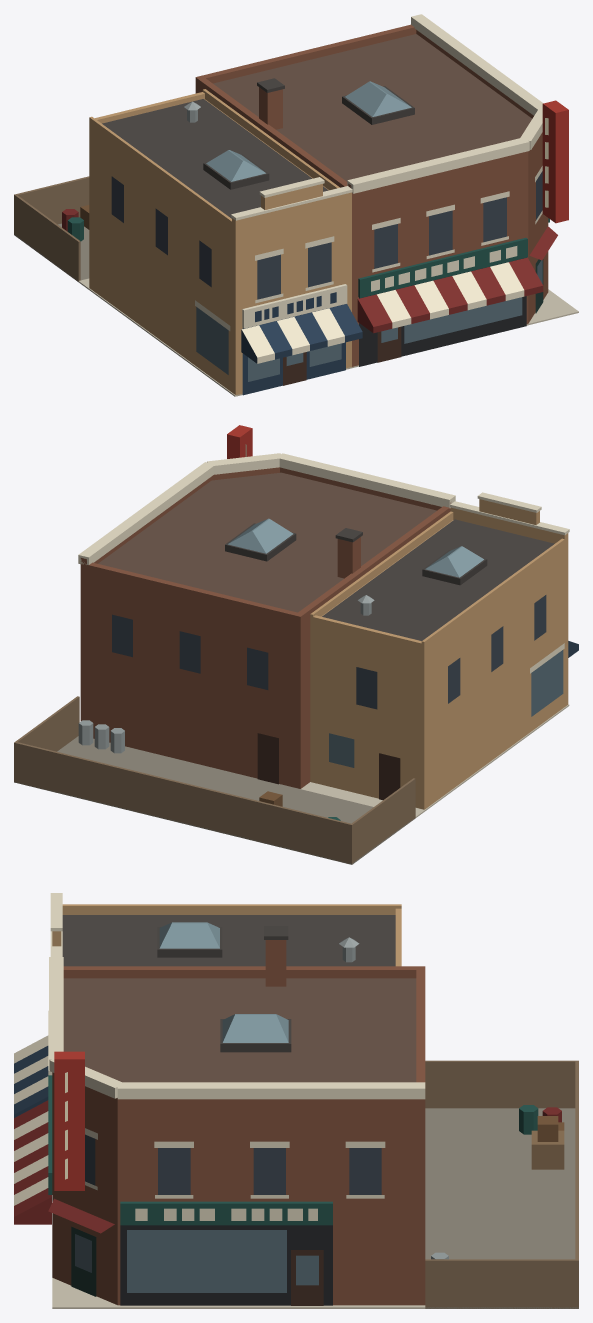
Rendered from highstreet_wl.glb.
3 views of the same model, one above another, from view 1: azimuth 30°, elevation 25°; view 2: azimuth 150°, elevation 25°; view 3: azimuth 270°, elevation 25° (orthographic). The views are drawn at different scales.
Visible parts, largest first — view 1: highstreet_wl; view 2: highstreet_wl; view 3: highstreet_wl.
Part boxes in pixels (left/top/right/bottom): highstreet_wl: left=14, top=14, right=578, bottom=396; highstreet_wl: left=14, top=425, right=578, bottom=864; highstreet_wl: left=14, top=893, right=578, bottom=1308.
Bounding box in the file's own units: 18 × 10.62 × 21.49.
